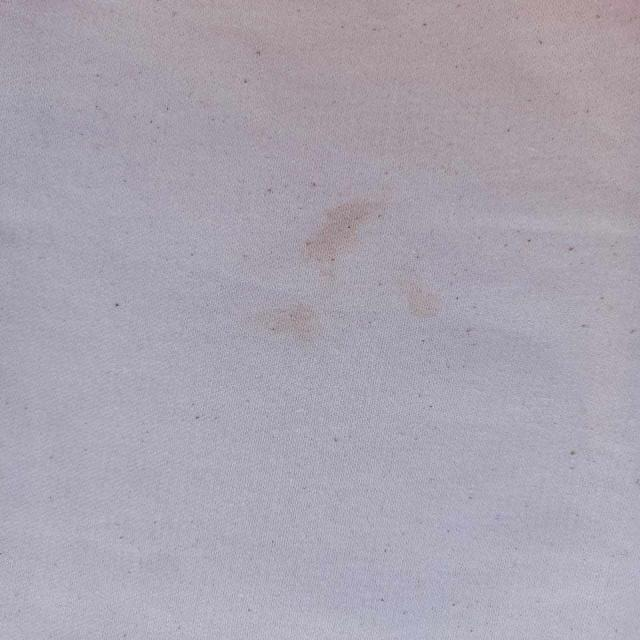taaaches: (305, 177, 391, 260), (267, 296, 331, 356), (389, 284, 444, 338)
